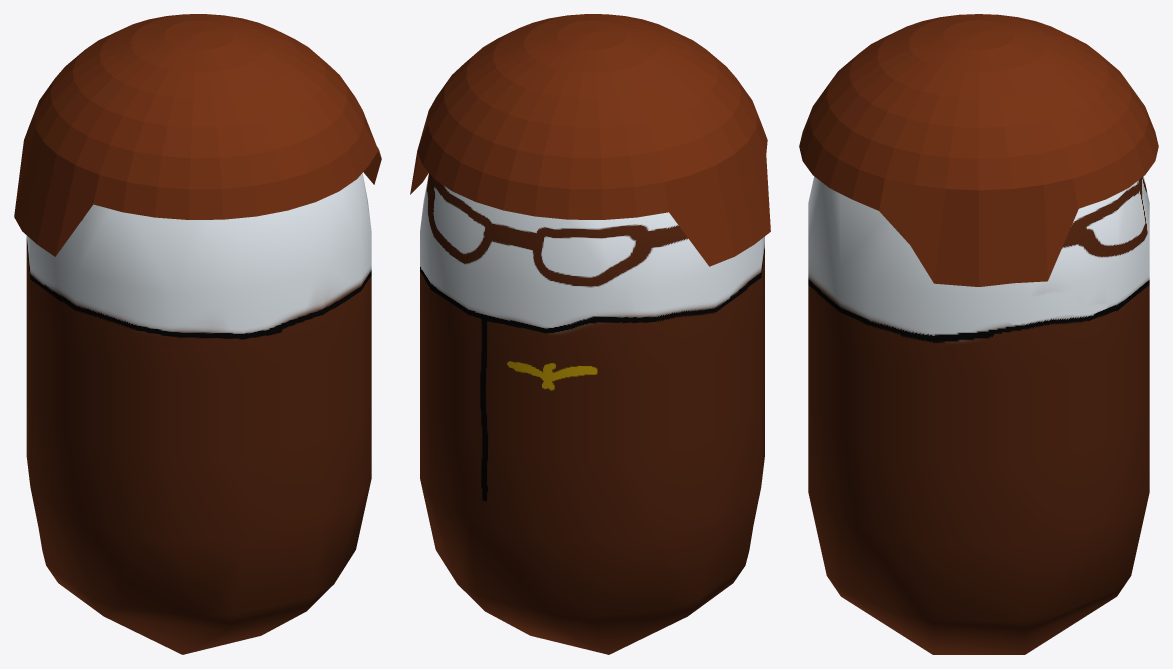
Rendered from Pilot.glb.
3 views of the same model, side by side, from view 1: azimuth 30°, elevation 25°; view 2: azimuth 150°, elevation 25°; view 3: azimuth 270°, elevation 25° (orthographic).
Visible parts, largest first — view 1: Mball.001, Sphere; view 2: Mball.001, Sphere; view 3: Mball.001, Sphere.
Part boxes in pixels (left/top/right/bottom): Mball.001: left=26, top=173, right=371, bottom=654; Sphere: left=14, top=14, right=381, bottom=256; Mball.001: left=420, top=173, right=764, bottom=654; Sphere: left=410, top=14, right=770, bottom=266; Mball.001: left=808, top=176, right=1149, bottom=654; Sphere: left=799, top=14, right=1158, bottom=286.
Size of the model in its own units: 4.9 by 8.67 by 4.69.
Materials: 2 (2 with a texture image).
